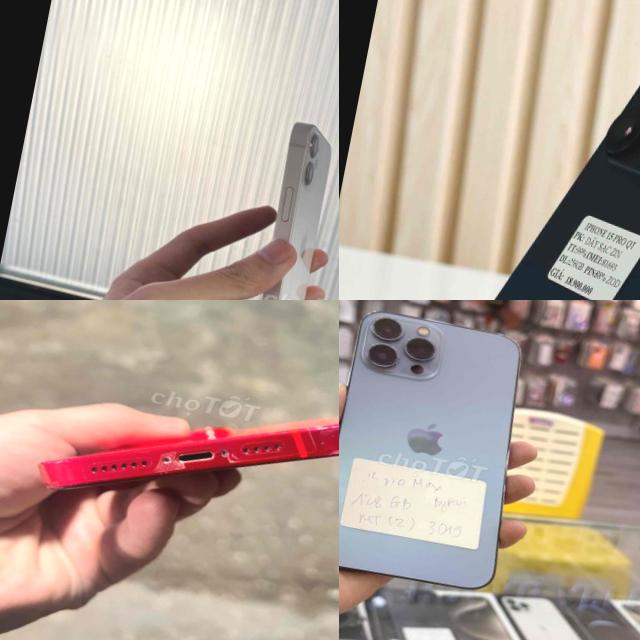scratch: (147, 442, 200, 484), (220, 442, 251, 472)
